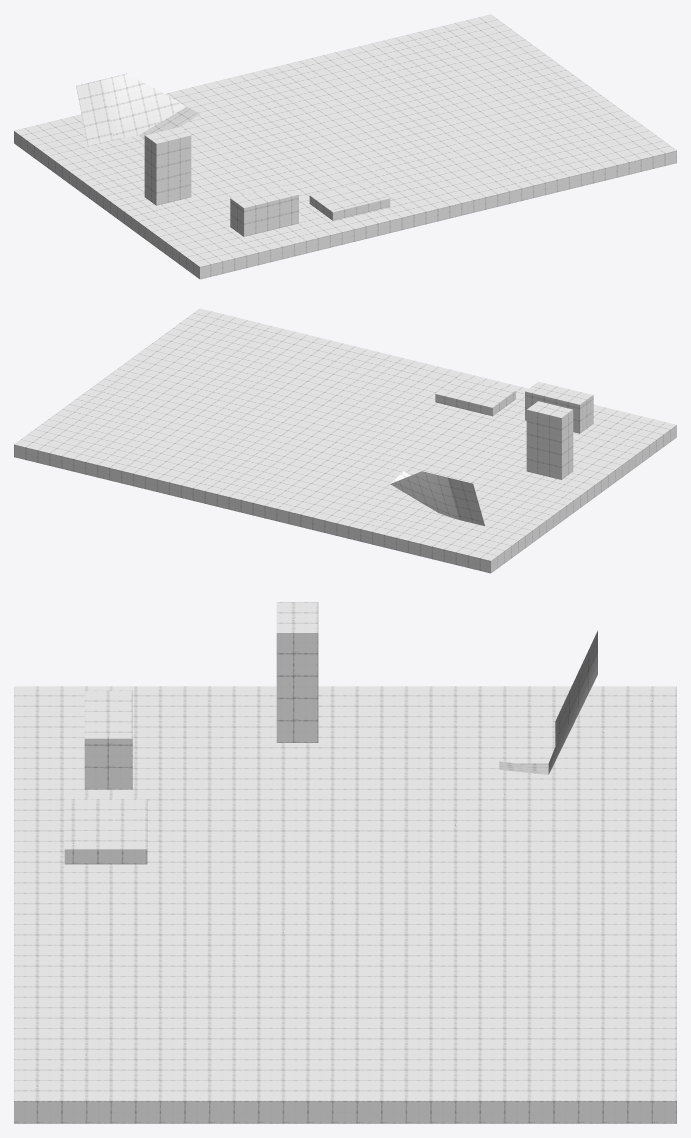
Rendered from TestStage.fbx.
The picture shows the model from 3 angles, top to bottom: view 1: azimuth 30°, elevation 25°; view 2: azimuth 150°, elevation 25°; view 3: azimuth 270°, elevation 25°; orthographic projection. The views are drawn at different scales.
Parts seen in each view (by area): view 1: Cube, Plane, Cube__1_, Cube__2_, Cube__3_; view 2: Cube, Cube__1_, Plane, Cube__3_, Cube__2_; view 3: Cube, Cube__1_, Cube__3_, Cube__2_, Plane.
Part boxes in pixels (left/top/right/bottom): Cube: left=14, top=14, right=676, bottom=279; Plane: left=76, top=73, right=200, bottom=145; Cube__1_: left=144, top=127, right=191, bottom=205; Cube__2_: left=230, top=185, right=298, bottom=236; Cube__3_: left=309, top=181, right=390, bottom=220; Cube: left=14, top=308, right=676, bottom=573; Cube__1_: left=526, top=401, right=573, bottom=479; Plane: left=390, top=471, right=484, bottom=525; Cube__3_: left=435, top=377, right=515, bottom=416; Cube__2_: left=525, top=381, right=593, bottom=433; Cube: left=14, top=686, right=676, bottom=1123; Cube__1_: left=276, top=602, right=318, bottom=742; Cube__3_: left=64, top=799, right=147, bottom=864; Cube__2_: left=84, top=690, right=132, bottom=789; Plane: left=499, top=630, right=597, bottom=774.
Size of the model in its own units: 3990 by 594 by 2695.
Materials: 1 (1 with a texture image).
